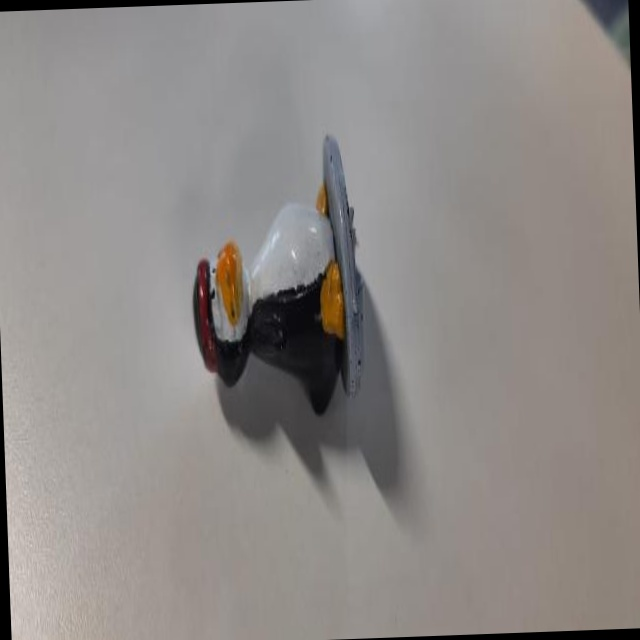Penguin: (183, 113, 370, 449)
